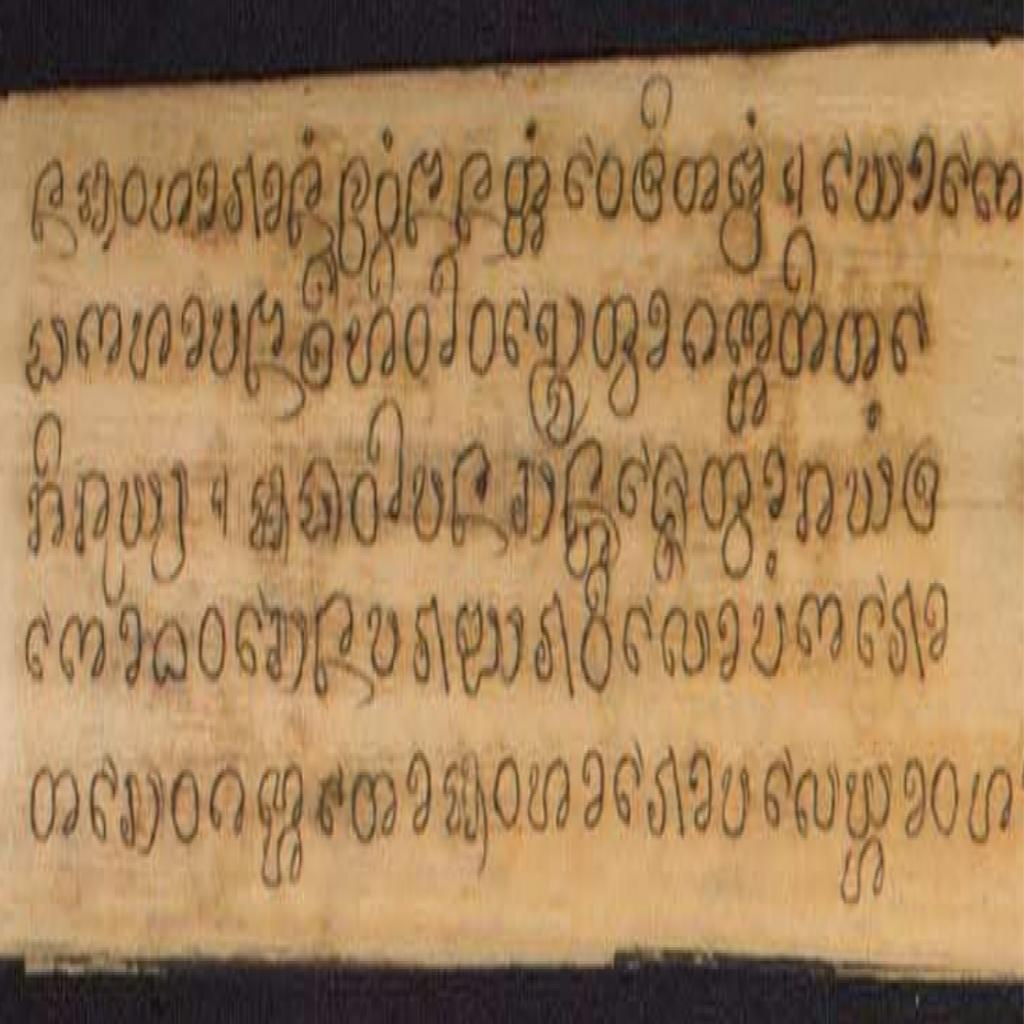LN003: (681, 292, 720, 378)
LN035: (197, 597, 230, 691)
